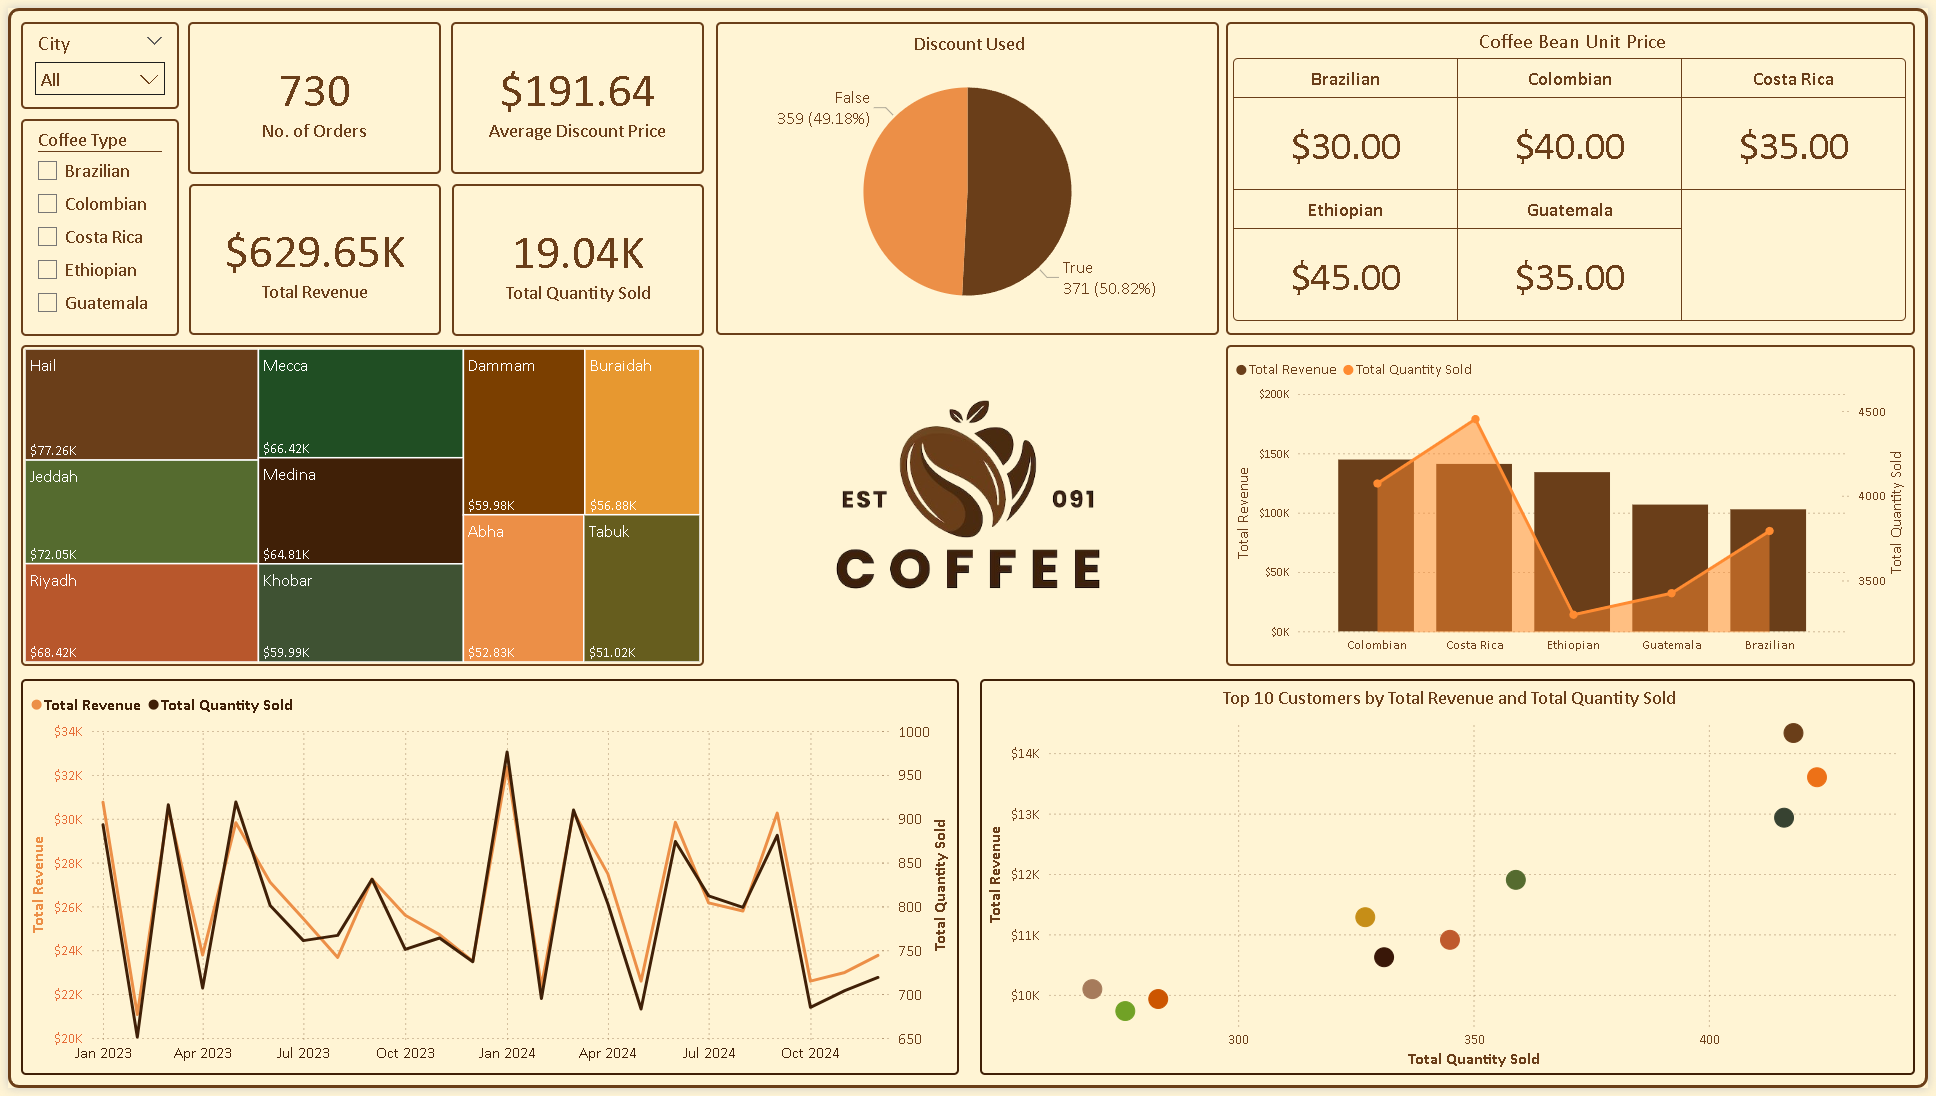

The dashboard page shown, as its layout file describes it:
{"tool":"powerbi","page":{"name":"Coffee Bean Analysis","canvas":[1920,1080],"ordinal":0},"visuals":[{"type":"shape","box":[0,0,1920,1080],"z":0},{"type":"slicer","fields":{"Values":["DatasetForCoffeeSales2.City"]},"box":[13,14,158,87],"z":1000},{"type":"slicer","fields":{"Values":["DatasetForCoffeeSales2.Product"]},"box":[13,111,158,217],"z":2000},{"type":"pieChart","title":"Discount Used","fields":{"Category":["DatasetForCoffeeSales2.Used_Discount"],"Y":["Key_measures.No. of Orders"]},"box":[708,14,503,313],"z":3000},{"type":"lineChart","fields":{"Category":["DatasetForCoffeeSales2.Date.Variation.Date Hierarchy.Year","DatasetForCoffeeSales2.Date.Variation.Date Hierarchy.Quarter","DatasetForCoffeeSales2.Date.Variation.Date Hierarchy.Month"],"Y":["Key_measures.Total Final Sales"],"Y2":["Key_measures.Total Quantity Sold"]},"box":[13,671,938,396],"z":4000},{"type":"card","fields":{"Values":["Key_measures.Total Quantity Sold"]},"box":[444,176,252,152],"z":5000},{"type":"image","box":[811,351,298,293],"z":6000},{"type":"card","fields":{"Values":["Key_measures.Total Final Sales"]},"box":[181,176,252,151],"z":7000},{"type":"card","fields":{"Values":["Key_measures.No. of Orders"]},"box":[180,14,253,152],"z":8000},{"type":"card","fields":{"Values":["Key_measures.Average Discount Price"]},"box":[443,14,253,152],"z":9000},{"type":"scatterChart","title":"Top 10 Customers by Total Revenue and Total Quantity Sold","fields":{"Series":["DatasetForCoffeeSales2.Customer_ID"],"Y":["Key_measures.Total Final Sales"],"X":["Key_measures.Total Quantity Sold"]},"box":[972,671,935,396],"z":10000},{"type":"treemap","fields":{"Group":["DatasetForCoffeeSales2.City"],"Values":["Key_measures.Total Sales"]},"box":[13,337,683,321],"z":11000},{"type":"lineStackedColumnComboChart","fields":{"Category":["DatasetForCoffeeSales2.Product"],"Y":["Key_measures.Total Sales"],"Y2":["Key_measures.Total Quantity Sold"]},"box":[1218,337,689,321],"z":12000},{"type":"cardVisual","title":"Coffee Bean Unit Price","fields":{"Rows":["DatasetForCoffeeSales2.Product"],"Data":["Key_measures.Average Unit Price"]},"box":[1218,14,689,313],"z":13000}]}

Visuals, with their boxes in screenshot pixels (x1, y1, x2, y2), scaled from the page's 1920x1080 canvas onto the 1936x1096 screenshot:
shape: rect(0, 0, 1935, 1095)
slicer - DatasetForCoffeeSales2.City: rect(13, 14, 172, 102)
slicer - DatasetForCoffeeSales2.Product: rect(13, 113, 172, 333)
"Discount Used" pieChart: rect(714, 14, 1221, 332)
lineChart - DatasetForCoffeeSales2.Date.Variation.Date Hierarchy.Year x DatasetForCoffeeSales2.Date.Variation.Date Hierarchy.Quarter: rect(13, 681, 959, 1083)
card - Key_measures.Total Quantity Sold: rect(448, 179, 702, 333)
image: rect(818, 356, 1118, 654)
card - Key_measures.Total Final Sales: rect(183, 179, 437, 332)
card - Key_measures.No. of Orders: rect(182, 14, 437, 168)
card - Key_measures.Average Discount Price: rect(447, 14, 702, 168)
"Top 10 Customers by Total Revenue and Total Quantity Sold" scatterChart: rect(980, 681, 1923, 1083)
treemap - DatasetForCoffeeSales2.City x Key_measures.Total Sales: rect(13, 342, 702, 668)
lineStackedColumnComboChart - DatasetForCoffeeSales2.Product x Key_measures.Total Sales: rect(1228, 342, 1923, 668)
"Coffee Bean Unit Price" cardVisual: rect(1228, 14, 1923, 332)
